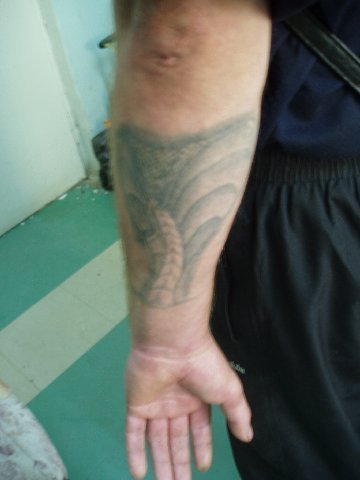tatu7_zmeya: (109, 107, 253, 315)
